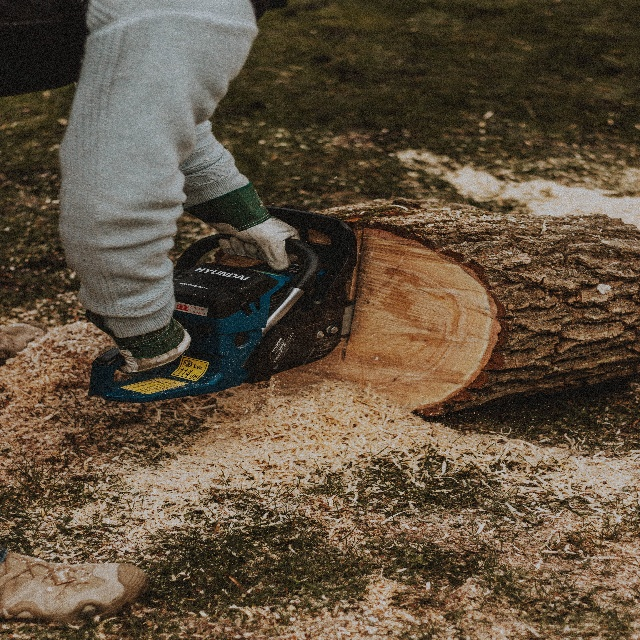Guantes: (218, 217, 298, 272), (120, 332, 191, 380)
